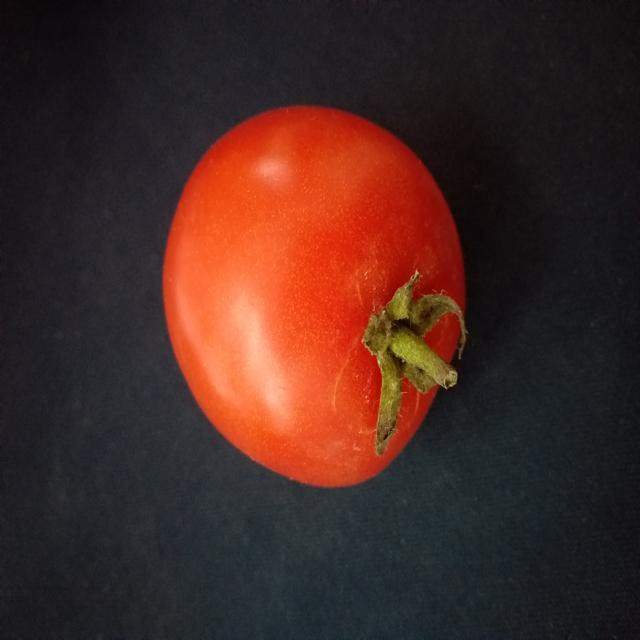tomato: (150, 86, 498, 501)
